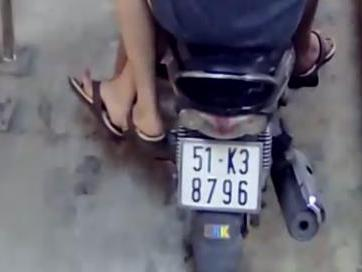num_plate: (178, 136, 261, 213)
